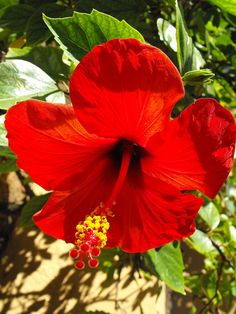Hibiscus: (10, 37, 230, 268)
